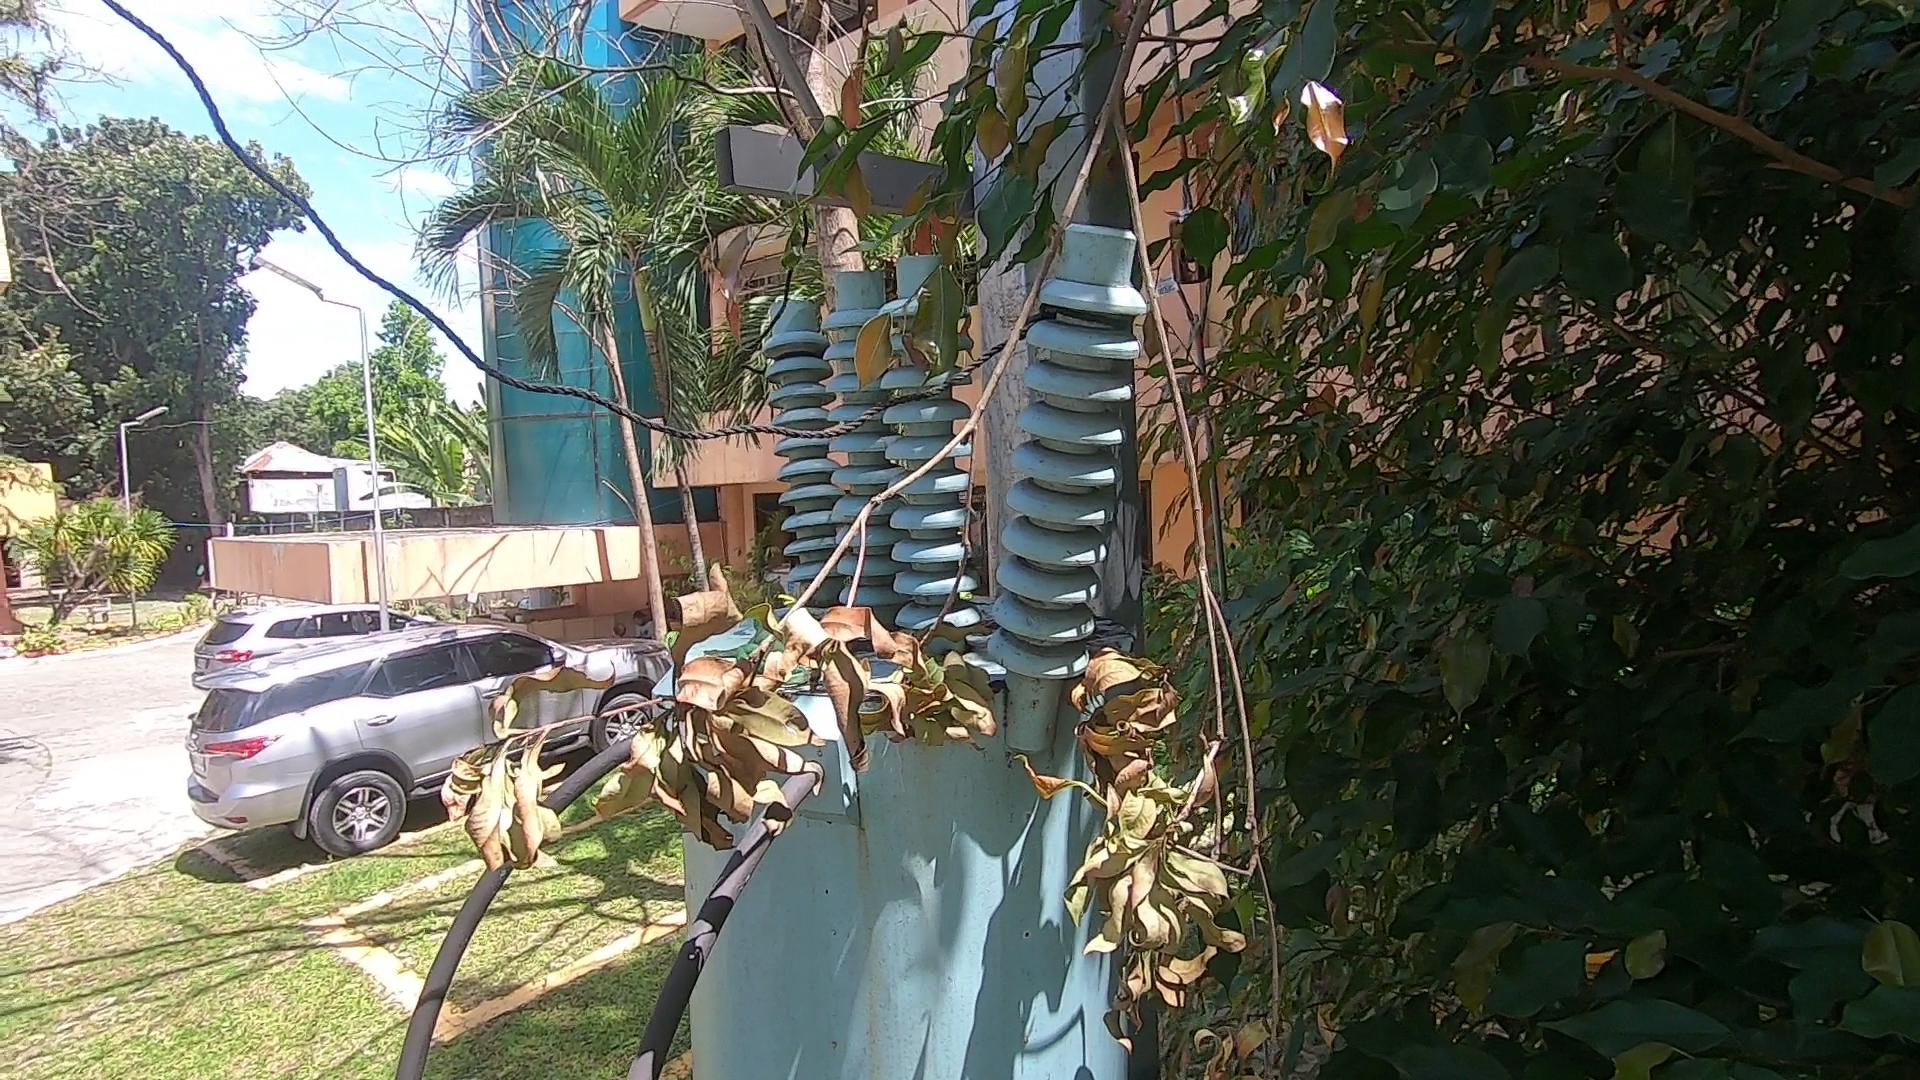branch with leaves: (419, 11, 1390, 1073)
